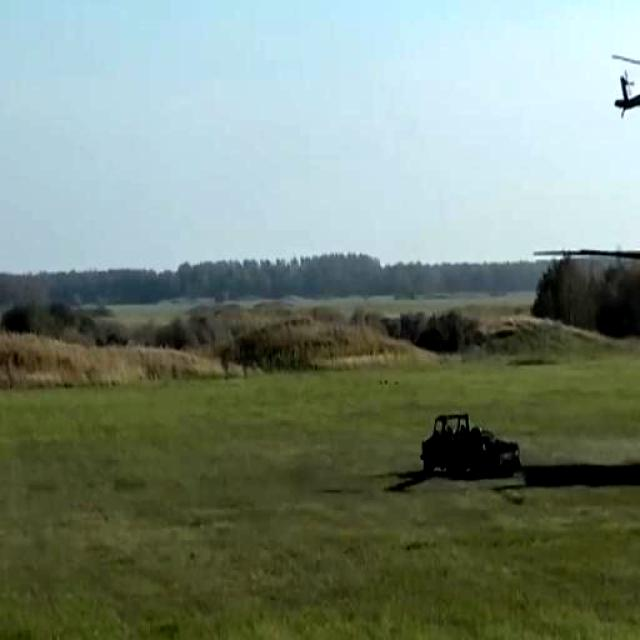drone: (604, 30, 640, 128)
